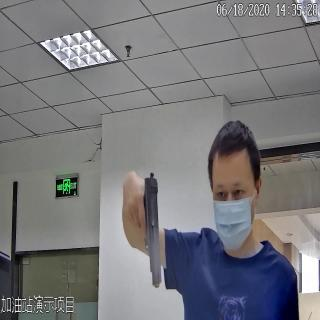gun: (127, 170, 163, 292)
